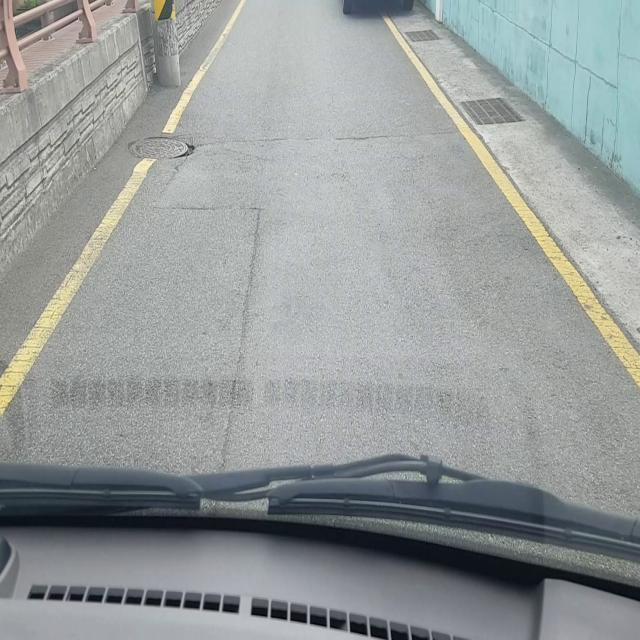Buraco: (173, 142, 198, 158)
